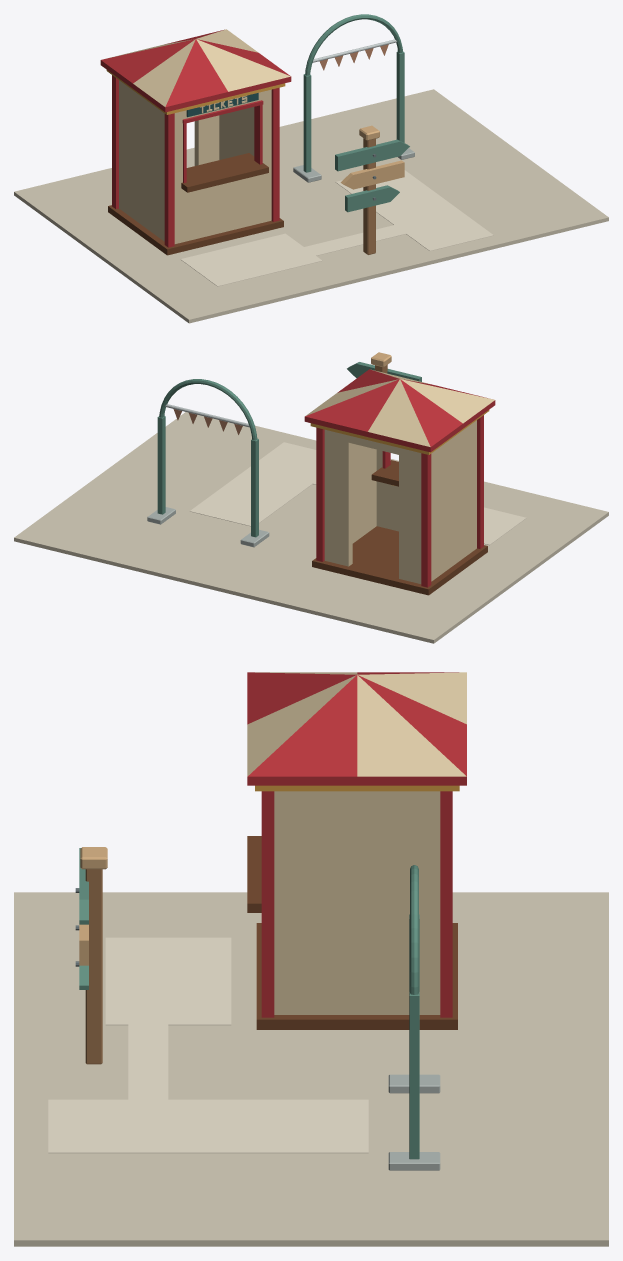
3 renders of one model, top to bottom at view 1: azimuth 30°, elevation 25°; view 2: azimuth 150°, elevation 25°; view 3: azimuth 270°, elevation 25°, orthographic. The views are drawn at different scales.
Parts seen in each view (by area): view 1: SCENE_ONLY__EntryCourtBase, whole_open_service_ticket_booth__Body_ThickOpenWallShell, whole_open_service_ticket_booth__Roof_StripedHipSolid, SCENE_ONLY__ArchApproachStrip, whole_direction_sign__village-direction-sign-01, SCENE_ONLY__ServiceApproachPad, whole_pennant_entry_arch__carnival-pennant-arch-01, whole_open_service_ticket_booth__Counter_InsideAndHandover, whole_open_service_ticket_booth__Base_GroundPlinth, whole_open_service_ticket_booth__Post_LeftFront, whole_open_service_ticket_booth__Post_RightFront, SCENE_ONLY__ServiceToGateLink (+5 smaller); view 2: SCENE_ONLY__EntryCourtBase, whole_open_service_ticket_booth__Body_ThickOpenWallShell, whole_open_service_ticket_booth__Roof_StripedHipSolid, SCENE_ONLY__ArchApproachStrip, whole_open_service_ticket_booth__Base_GroundPlinth, whole_pennant_entry_arch__carnival-pennant-arch-01, whole_open_service_ticket_booth__Post_LeftBack, whole_open_service_ticket_booth__Post_RightBack, whole_open_service_ticket_booth__Post_LeftFront, SCENE_ONLY__ServiceApproachPad, whole_direction_sign__village-direction-sign-01, whole_open_service_ticket_booth__Roof_ThickCeilingCornice (+1 smaller); view 3: SCENE_ONLY__EntryCourtBase, whole_open_service_ticket_booth__Body_ThickOpenWallShell, whole_open_service_ticket_booth__Roof_StripedHipSolid, SCENE_ONLY__ArchApproachStrip, SCENE_ONLY__ServiceApproachPad, whole_direction_sign__village-direction-sign-01, whole_pennant_entry_arch__carnival-pennant-arch-01, whole_open_service_ticket_booth__Base_GroundPlinth, whole_open_service_ticket_booth__Post_RightFront, SCENE_ONLY__ServiceToGateLink, whole_open_service_ticket_booth__Post_RightBack, whole_open_service_ticket_booth__Roof_ThickCeilingCornice (+1 smaller).
Boxes of the visible parts, x1,y1,x2,y2 form: SCENE_ONLY__EntryCourtBase: (14,89,608,323); whole_open_service_ticket_booth__Body_ThickOpenWallShell: (119,80,271,243); whole_open_service_ticket_booth__Roof_StripedHipSolid: (100,29,291,112); SCENE_ONLY__ArchApproachStrip: (335,170,493,250); whole_direction_sign__village-direction-sign-01: (335,125,409,254); SCENE_ONLY__ServiceApproachPad: (180,233,322,286); whole_pennant_entry_arch__carnival-pennant-arch-01: (293,14,414,182); whole_open_service_ticket_booth__Counter_InsideAndHandover: (181,153,268,192); whole_open_service_ticket_booth__Base_GroundPlinth: (108,205,283,255); whole_open_service_ticket_booth__Post_LeftFront: (164,113,174,247); whole_open_service_ticket_booth__Post_RightFront: (271,87,279,221); SCENE_ONLY__ServiceToGateLink: (304,225,405,255); SCENE_ONLY__EntryCourtBase: (14,412,608,643); whole_open_service_ticket_booth__Body_ThickOpenWallShell: (324,420,476,583); whole_open_service_ticket_booth__Roof_StripedHipSolid: (304,369,495,452); SCENE_ONLY__ArchApproachStrip: (189,442,316,526); whole_open_service_ticket_booth__Base_GroundPlinth: (312,526,487,595); whole_pennant_entry_arch__carnival-pennant-arch-01: (147,379,269,547); whole_open_service_ticket_booth__Post_LeftBack: (421,453,431,587); whole_open_service_ticket_booth__Post_RightBack: (316,427,324,561); whole_open_service_ticket_booth__Post_LeftFront: (477,415,483,548); SCENE_ONLY__ServiceApproachPad: (484,507,526,545); whole_direction_sign__village-direction-sign-01: (347,352,421,381); whole_open_service_ticket_booth__Roof_ThickCeilingCornice: (310,410,489,454); SCENE_ONLY__EntryCourtBase: (14,892,608,1246); whole_open_service_ticket_booth__Body_ThickOpenWallShell: (274,791,440,1014); whole_open_service_ticket_booth__Roof_StripedHipSolid: (247,672,466,785); SCENE_ONLY__ArchApproachStrip: (48,1099,368,1153); SCENE_ONLY__ServiceApproachPad: (105,937,231,1025); whole_direction_sign__village-direction-sign-01: (75,847,107,1064); whole_pennant_entry_arch__carnival-pennant-arch-01: (388,865,440,1170); whole_open_service_ticket_booth__Base_GroundPlinth: (256,923,457,1029); whole_open_service_ticket_booth__Post_RightFront: (261,791,274,1017); SCENE_ONLY__ServiceToGateLink: (128,1024,168,1099); whole_open_service_ticket_booth__Post_RightBack: (440,791,452,1017); whole_open_service_ticket_booth__Roof_ThickCeilingCornice: (255,785,459,791).
Size of the model in its own units: 7.2 by 3.02 by 5.2.
